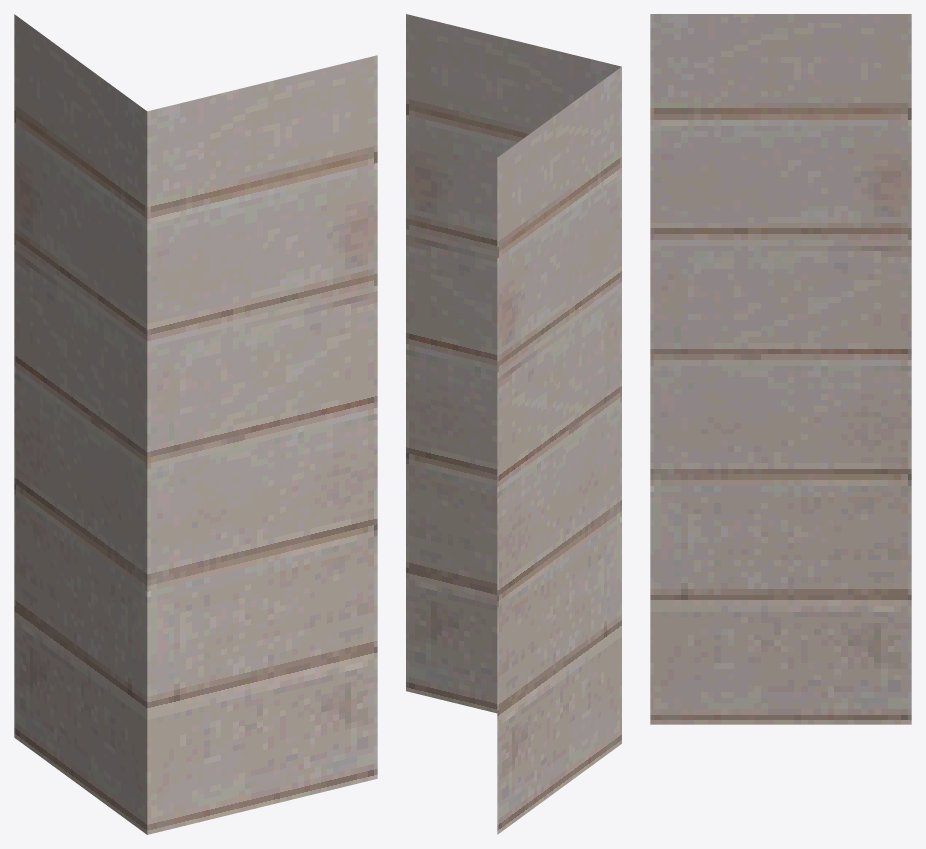
File: concrete_wall_corner.glb
The picture shows the model from 3 angles, left to right: view 1: azimuth 30°, elevation 25°; view 2: azimuth 150°, elevation 25°; view 3: azimuth 270°, elevation 25°; orthographic projection. The views are drawn at different scales.
Visible parts, largest first — view 1: concrete_wall_corner; view 2: concrete_wall_corner; view 3: concrete_wall_corner.
Boxes of the visible parts, box(x1,y1,x2,y2) form: concrete_wall_corner: box(14, 14, 377, 834); concrete_wall_corner: box(406, 14, 621, 834); concrete_wall_corner: box(650, 14, 911, 724).
Bounding box in the file's own units: 1 × 3 × 1.
Materials: 1 (1 with a texture image).
